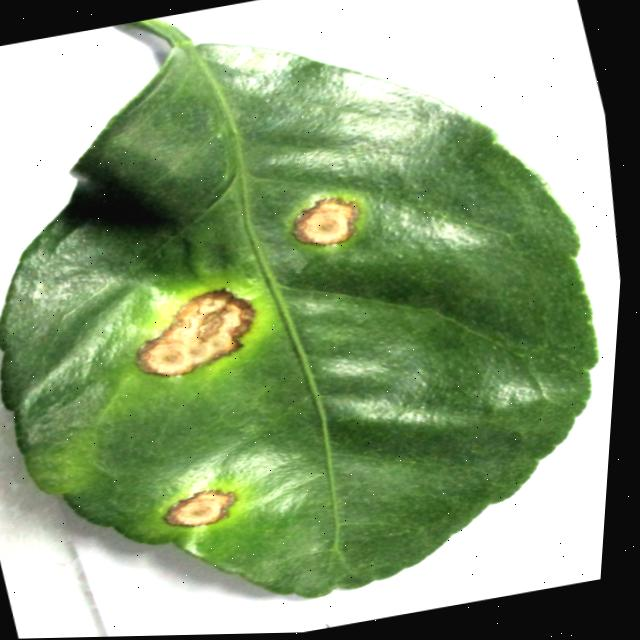antracnose: (0, 19, 595, 598), (136, 290, 254, 376), (291, 198, 358, 245), (165, 491, 233, 526)
